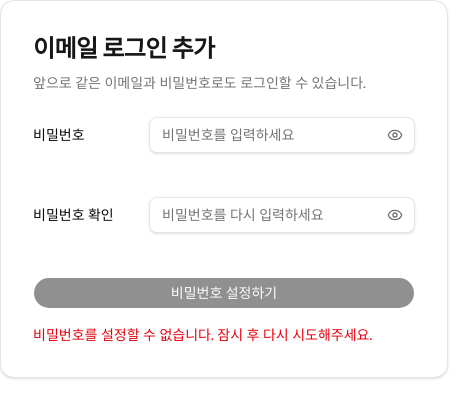
Scenario: SetPasswordForm › SYSTEM root error는 유효한 submit 시작 시 제거한다
Check: the text "비밀번호를 설정할 수 없습니다. 잠시 후 다시 시도해주세요." is shown, box [33,325,415,345]
Type "Password123!" into the password field labelled "비밀번호" at (282, 135), box [149,117,415,153]
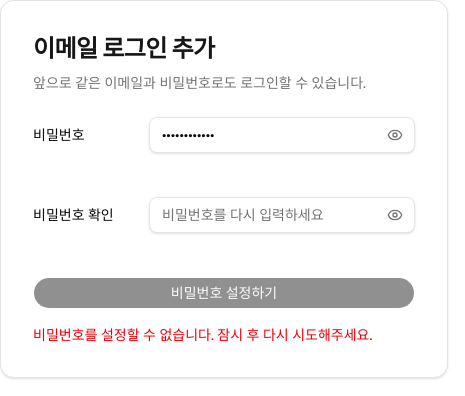
Type "Password123!" into the password field labelled "비밀번호 확인" at (282, 215), box [149,197,415,233]
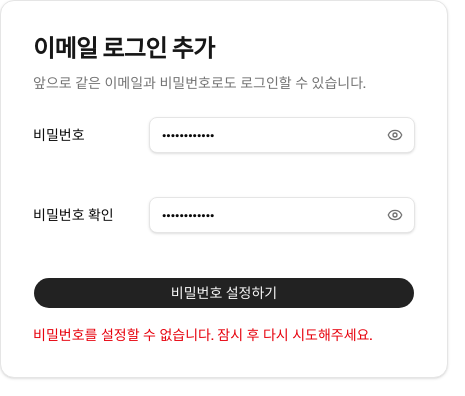
Check: the text "비밀번호를 설정할 수 없습니다. 잠시 후 다시 시도해주세요." is shown, box [33,325,415,345]
Check: the button "비밀번호 설정하기" is enabled, box [33,277,415,309]
Submit the form "비밀번호 설정하기"
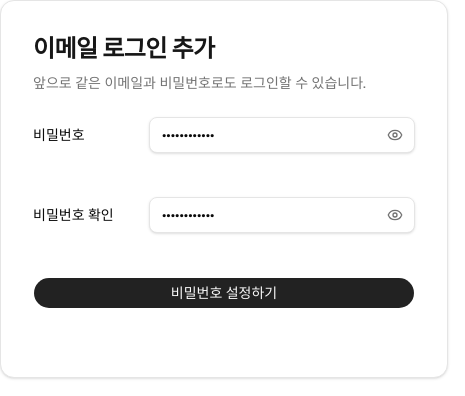
Check: the text "비밀번호를 설정할 수 없습니다. 잠시 후 다시 시도해주세요." is gone
